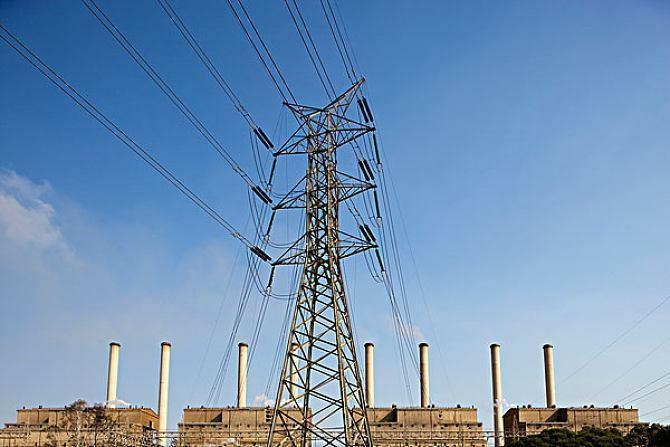power_tower: (235, 71, 403, 447)
